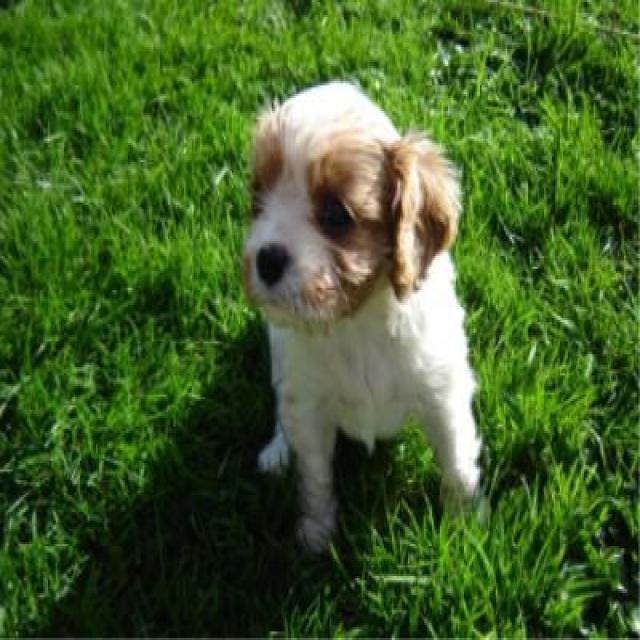blenheim_spaniel: (240, 79, 485, 552)
